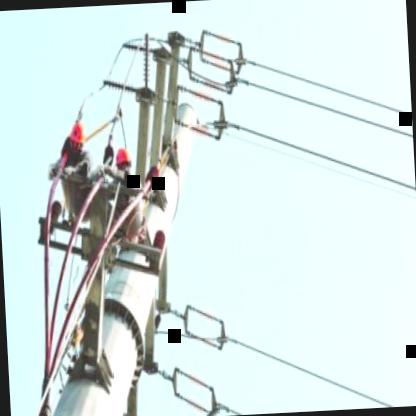helmet: (112, 142, 134, 182), (64, 122, 88, 157)
